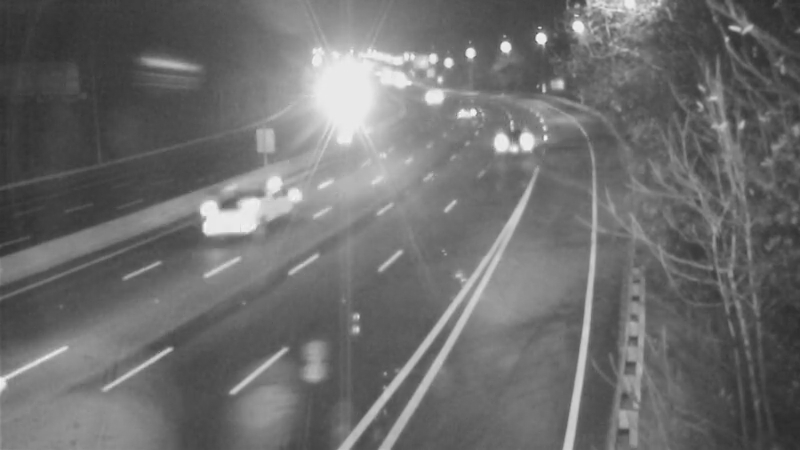vehicle: (200, 173, 280, 253), (407, 68, 457, 118), (439, 89, 489, 139), (485, 115, 535, 165), (311, 90, 361, 140)
